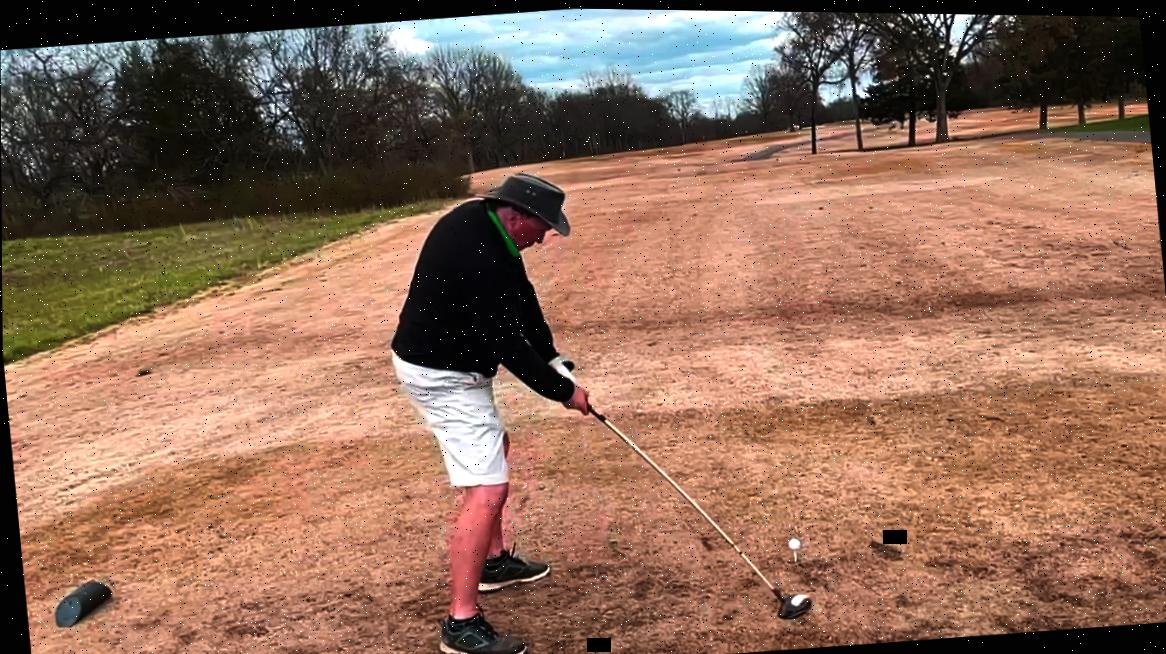ClubHead: (763, 577, 819, 625)
GolfBall: (785, 532, 802, 550)
